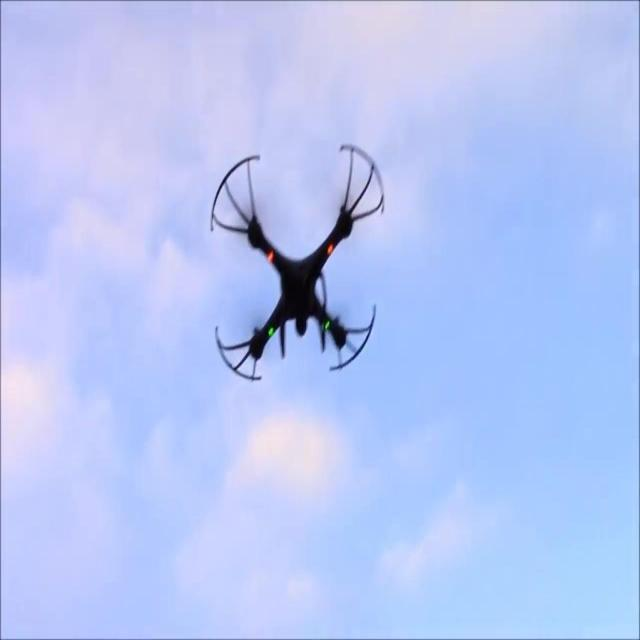drone: (210, 143, 386, 382)
